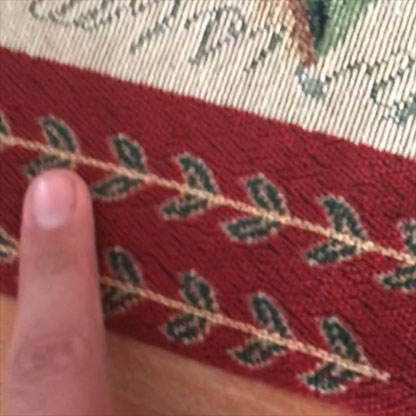fingertip: (13, 161, 108, 259)
